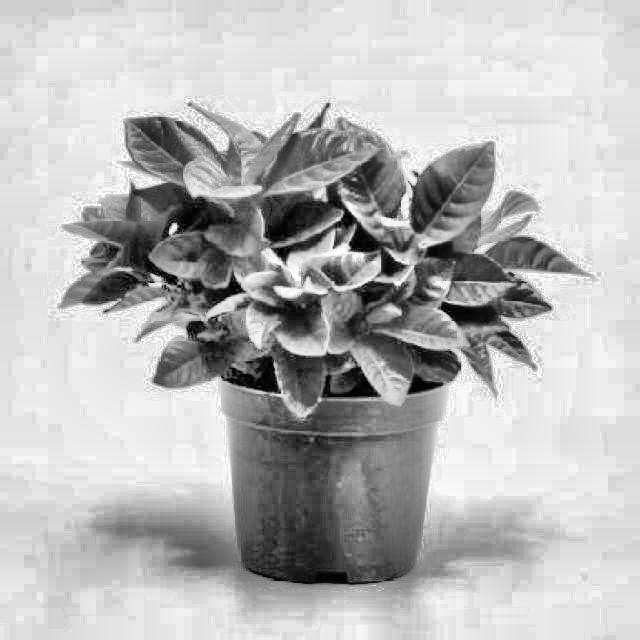plants: (122, 108, 593, 584)
